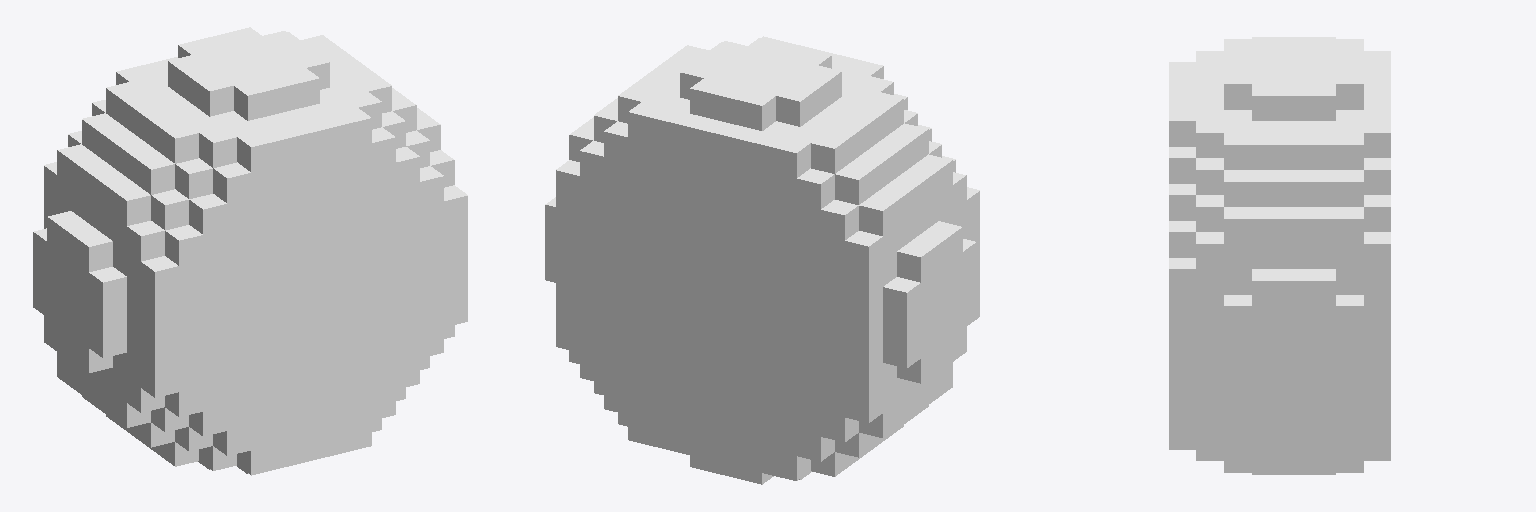
Rendered from eyeDec-5-eye.obj.
3 views of the same model, side by side, from view 1: azimuth 30°, elevation 25°; view 2: azimuth 150°, elevation 25°; view 3: azimuth 270°, elevation 25° (orthographic).
Parts seen in each view (by area): view 1: eye; view 2: eye; view 3: eye.
Boxes of the visible parts, x1,y1,x2,y2 form: eye: [33, 27, 467, 475]; eye: [545, 36, 979, 484]; eye: [1169, 37, 1390, 474].
Bounding box in the file's own units: 1.5 × 1.5 × 0.8.